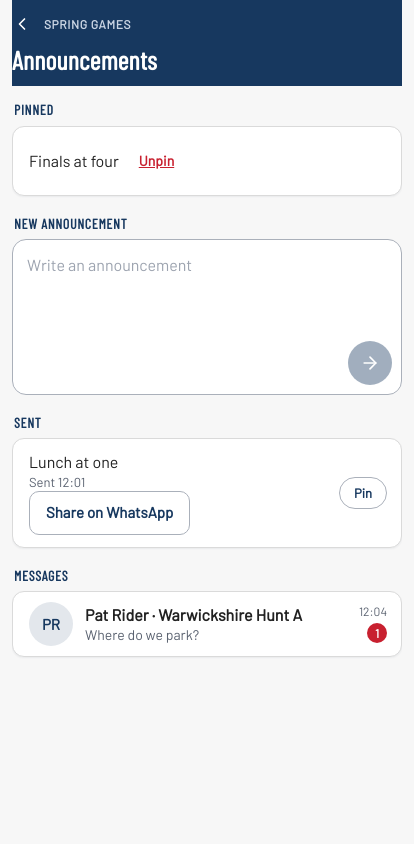
Test: AnnouncementsPage › shows why sending failed
Type "Hello" into the text box with placeholder "Write an announcement" at (207, 317), box [12, 239, 402, 395]
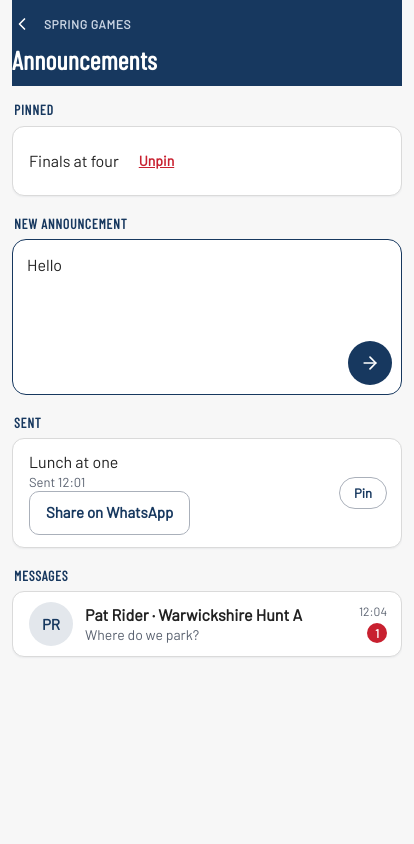
Click the button named "Send" at (370, 363), box [348, 341, 392, 385]
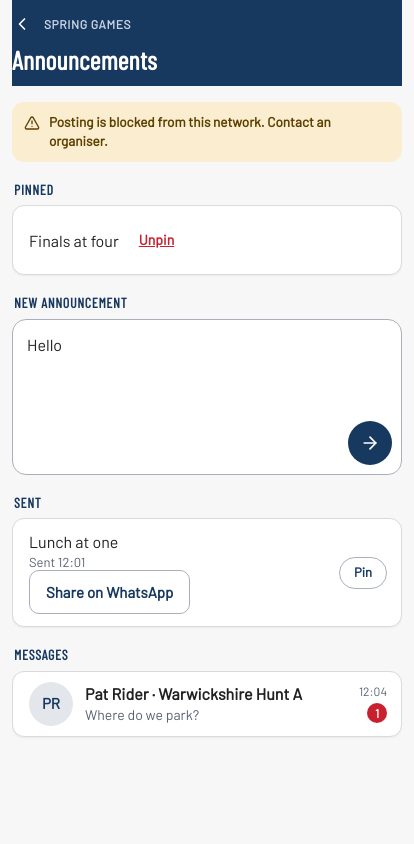
Expected: the message shows "Posting is blocked from this network", [49, 113, 331, 149]
Click the button named "Send" at (370, 443), box [348, 421, 392, 465]
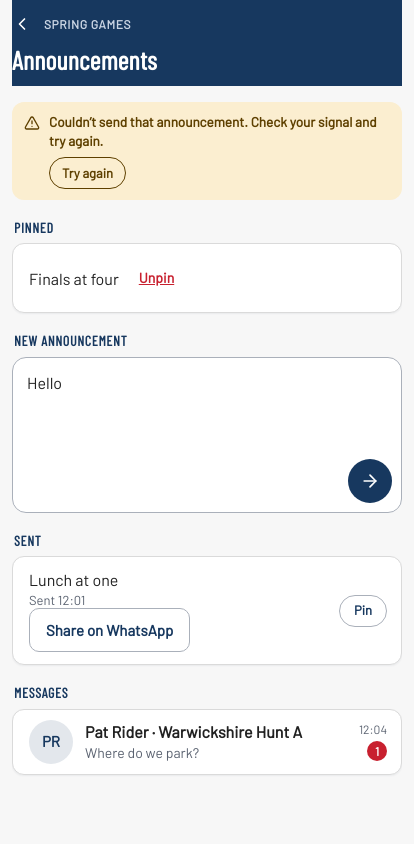
Expected: the message shows "Couldn’t send that announcement", [49, 113, 376, 149]
